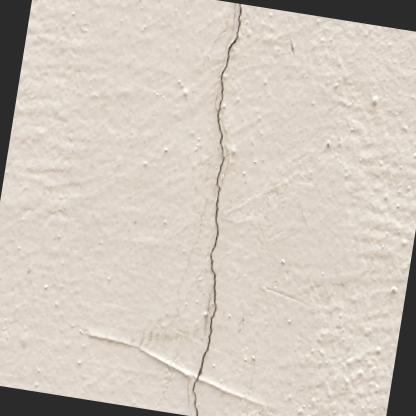crack: (189, 2, 244, 416)
